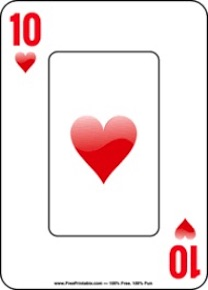TenOfHearts: (1, 1, 206, 286)
